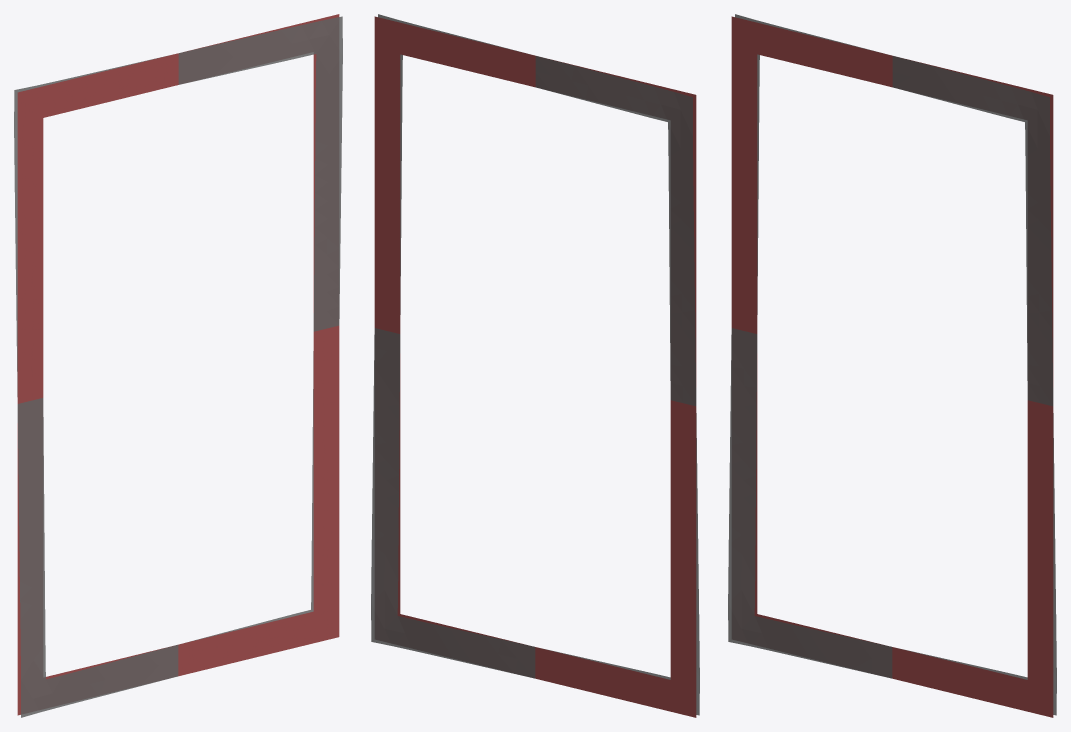
The model's file is warping-box-185-100-9-8-255.glb.
3 views of the same model, side by side, from view 1: azimuth 30°, elevation 25°; view 2: azimuth 150°, elevation 25°; view 3: azimuth 330°, elevation 25° (orthographic).
Visible parts, largest first — view 1: undeformed cross-section, cross-section with warping; view 2: undeformed cross-section, cross-section with warping; view 3: undeformed cross-section, cross-section with warping.
Part boxes in pixels (x1,y1,x2,y2): undeformed cross-section: [17, 14, 339, 715]; cross-section with warping: [14, 16, 342, 717]; undeformed cross-section: [374, 16, 696, 717]; cross-section with warping: [371, 14, 699, 715]; undeformed cross-section: [731, 16, 1053, 717]; cross-section with warping: [728, 14, 1056, 715].
Size of the model in its own units: 0.1 by 0.185 by 0.0038.
